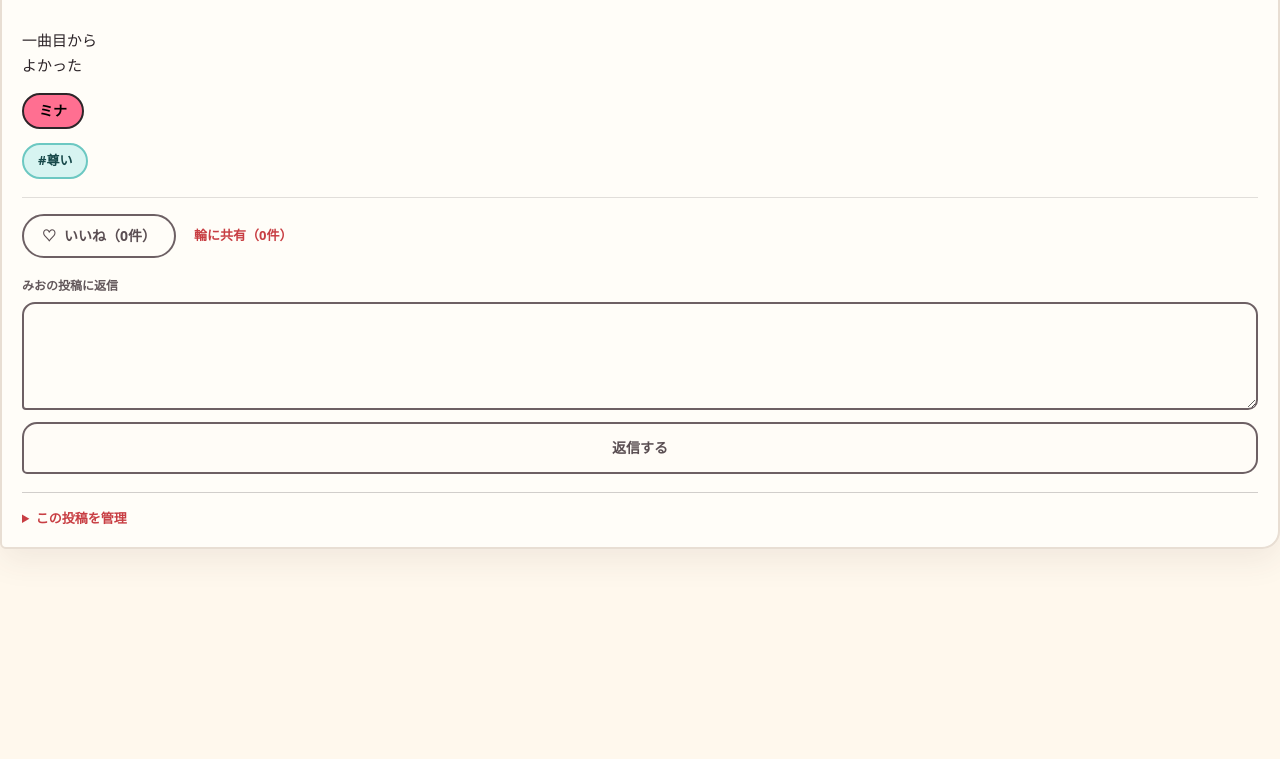
Scenario: PostCard › lets the author rewrite and manage the photos
Step 1. Click the heading "この投稿を管理" → (81, 518), box top-left (36, 509), bottom-right (127, 527)
(page scrolled)
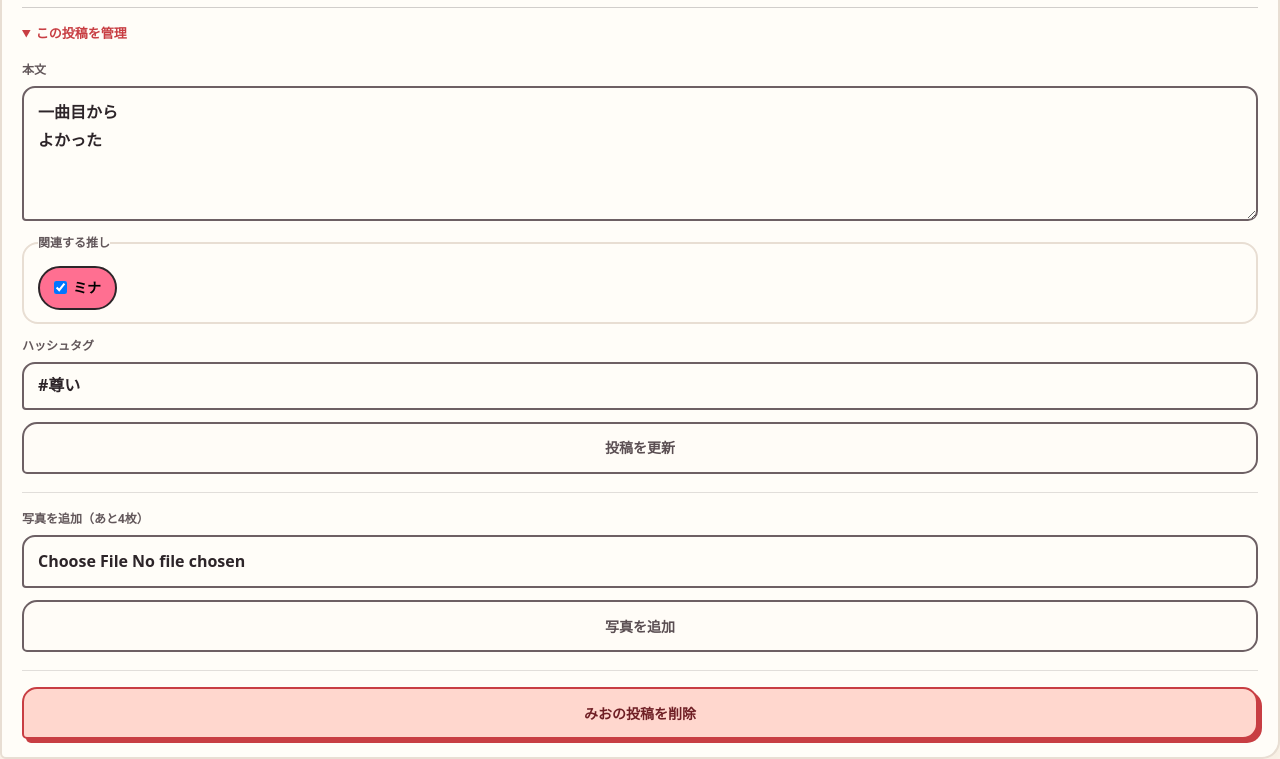
Now the button "投稿を更新" is shown, box top-left (22, 422), bottom-right (1258, 474)
Now the button "写真を追加" is shown, box top-left (22, 600), bottom-right (1258, 652)
Now the button "みおの投稿を削除" is shown, box top-left (22, 688), bottom-right (1258, 740)
